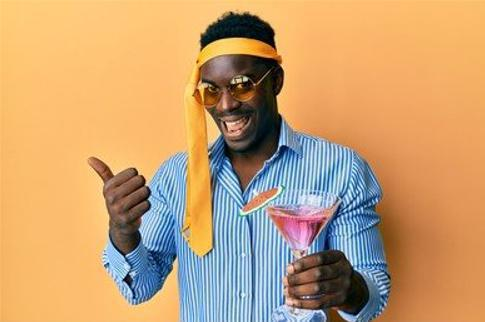Drunk: (202, 65, 267, 145)
